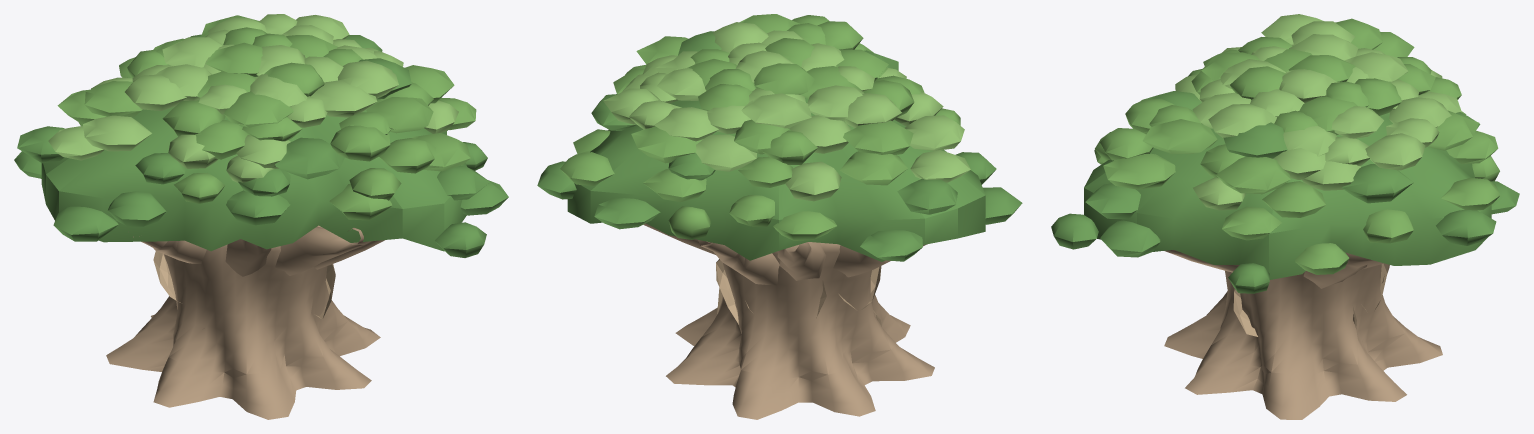
The model's file is detail.glb.
3 renders of one model, left to right at view 1: azimuth 30°, elevation 25°; view 2: azimuth 150°, elevation 25°; view 3: azimuth 270°, elevation 25°, orthographic.
Parts seen in each view (by area): view 1: the-tree-of-life-walt-disney-world; view 2: the-tree-of-life-walt-disney-world; view 3: the-tree-of-life-walt-disney-world.
Boxes of the visible parts, bbox=[...] form: the-tree-of-life-walt-disney-world: bbox=[14, 14, 508, 419]; the-tree-of-life-walt-disney-world: bbox=[537, 14, 1022, 419]; the-tree-of-life-walt-disney-world: bbox=[1051, 14, 1519, 419].
Size of the model in its own units: 62.79 by 43.59 by 61.33.
